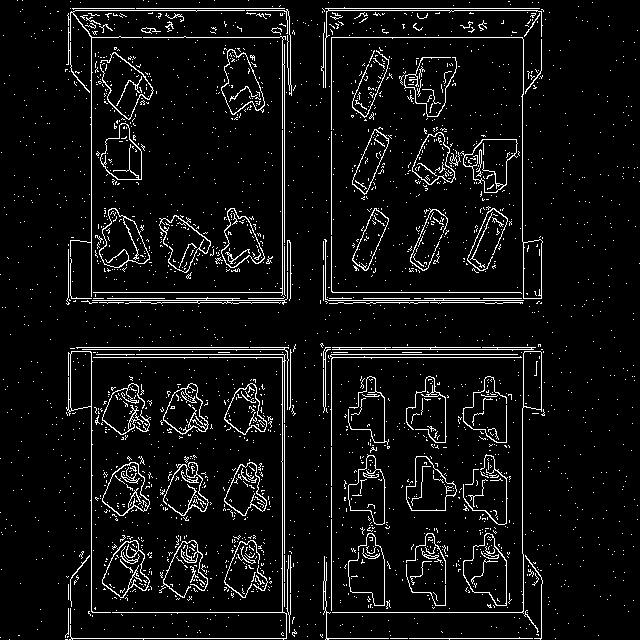Battery: (464, 209, 511, 272), (351, 128, 391, 200), (352, 50, 391, 121), (408, 209, 448, 272), (352, 209, 389, 272)
Regulator: (95, 376, 151, 440), (96, 456, 152, 520), (95, 208, 149, 271), (408, 129, 462, 191), (160, 456, 211, 521), (101, 535, 151, 600), (96, 120, 145, 185), (160, 535, 209, 600), (224, 535, 270, 599), (225, 379, 272, 440), (161, 384, 212, 438), (224, 464, 270, 519)
Sensor: (96, 48, 155, 124), (462, 529, 508, 608), (215, 208, 271, 272), (216, 48, 266, 118), (399, 58, 456, 118), (462, 454, 510, 525), (95, 208, 149, 271), (461, 376, 511, 444), (406, 529, 448, 609), (408, 129, 462, 191), (160, 215, 211, 279), (462, 139, 520, 194), (347, 378, 389, 448), (348, 531, 386, 608), (406, 376, 446, 446), (345, 456, 385, 525), (405, 458, 456, 511)
